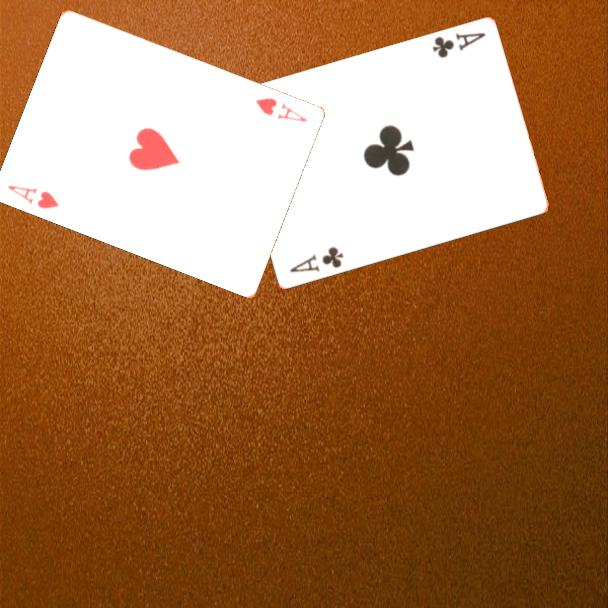c01: (286, 243, 346, 276), (429, 29, 488, 61)
h01: (253, 94, 311, 125), (4, 182, 62, 211)
